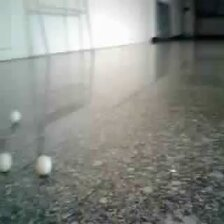tennis: (148, 119, 176, 153), (51, 84, 70, 109), (61, 59, 74, 77)
